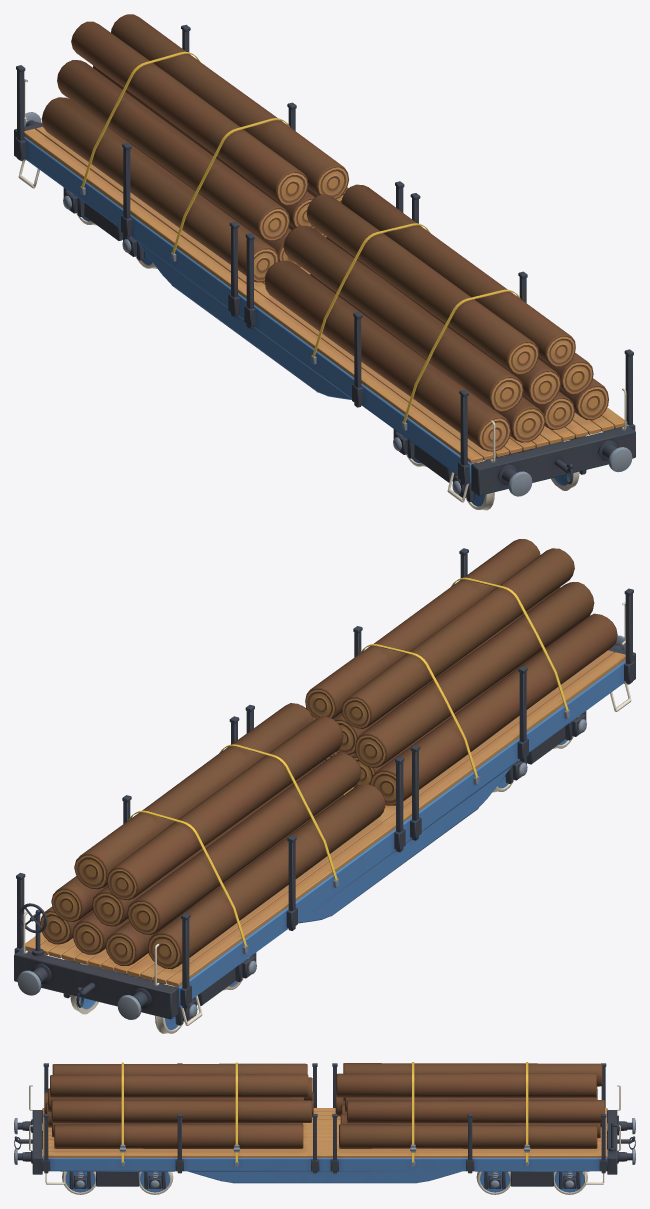
File: flatcar.glb
3 renders of one model, top to bottom at view 1: azimuth 30°, elevation 25°; view 2: azimuth 150°, elevation 25°; view 3: azimuth 270°, elevation 25°, orthographic. The views are drawn at different scales.
Visible parts, largest first — view 1: flatcar_body; view 2: flatcar_body; view 3: flatcar_body.
Part boxes in pixels (x1,y1,x2,y2): flatcar_body: [14, 14, 635, 510]; flatcar_body: [14, 539, 635, 1033]; flatcar_body: [14, 1062, 635, 1194].
Size of the model in its own units: 3 by 3.01 by 15.
Materials: 1 (1 with a texture image).
